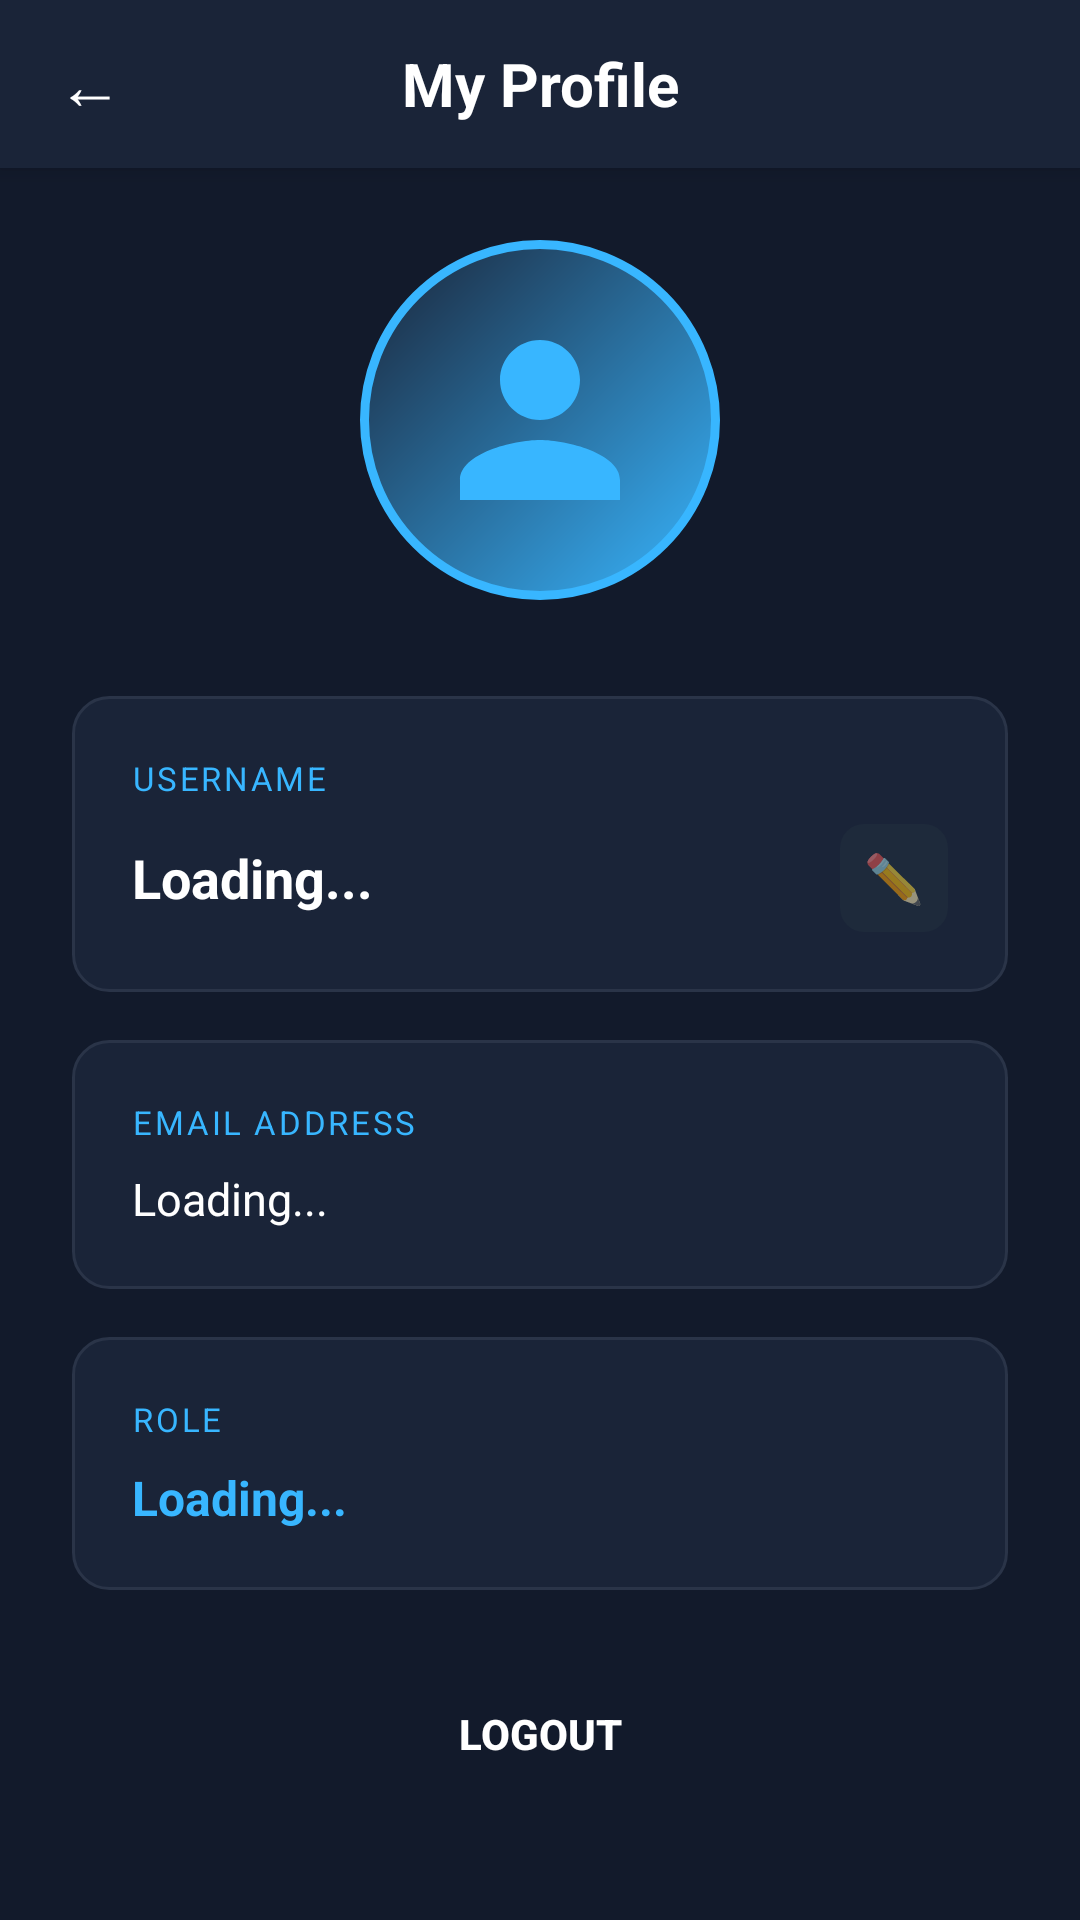

Icons on this 1080*1920 Android screen, each with the point to tap as point (x, y):
Profile Avatar: point (540, 420)
